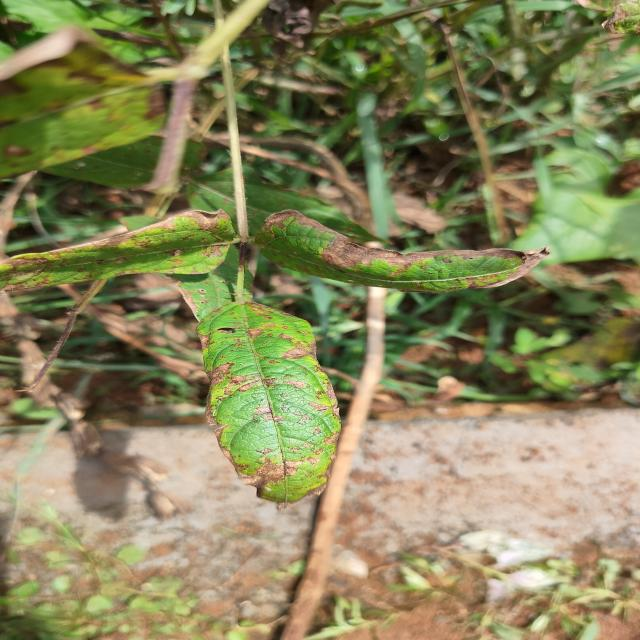Black gram_leaf spot: (197, 302, 340, 504), (253, 209, 549, 293), (0, 210, 235, 292)
